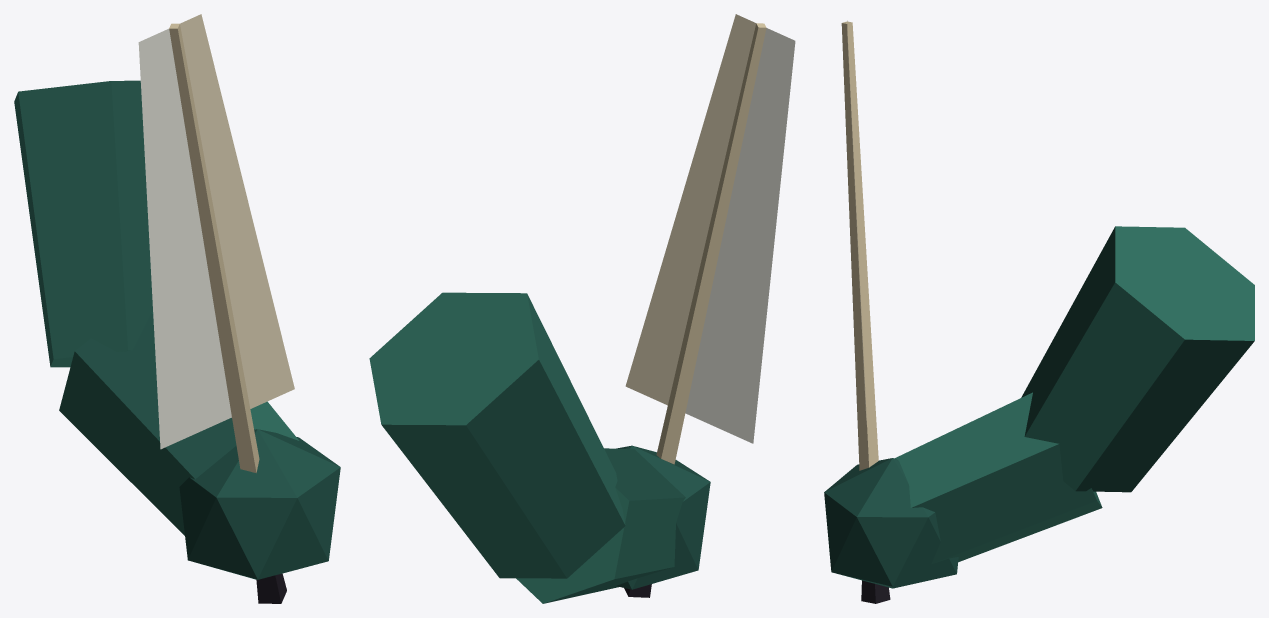
File: arm_l.glb
3 views of the same model, side by side, from view 1: azimuth 30°, elevation 25°; view 2: azimuth 150°, elevation 25°; view 3: azimuth 270°, elevation 25° (orthographic). The views are drawn at different scales.
Visible parts, largest first — view 1: arm_l2; view 2: arm_l2; view 3: arm_l2.
Boxes of the visible parts, <box> form: arm_l2: <box>14,14,340,603</box>; arm_l2: <box>369,14,795,603</box>; arm_l2: <box>824,20,1254,603</box>.
Size of the model in its own units: 0.2768 by 0.6483 by 0.4717.
